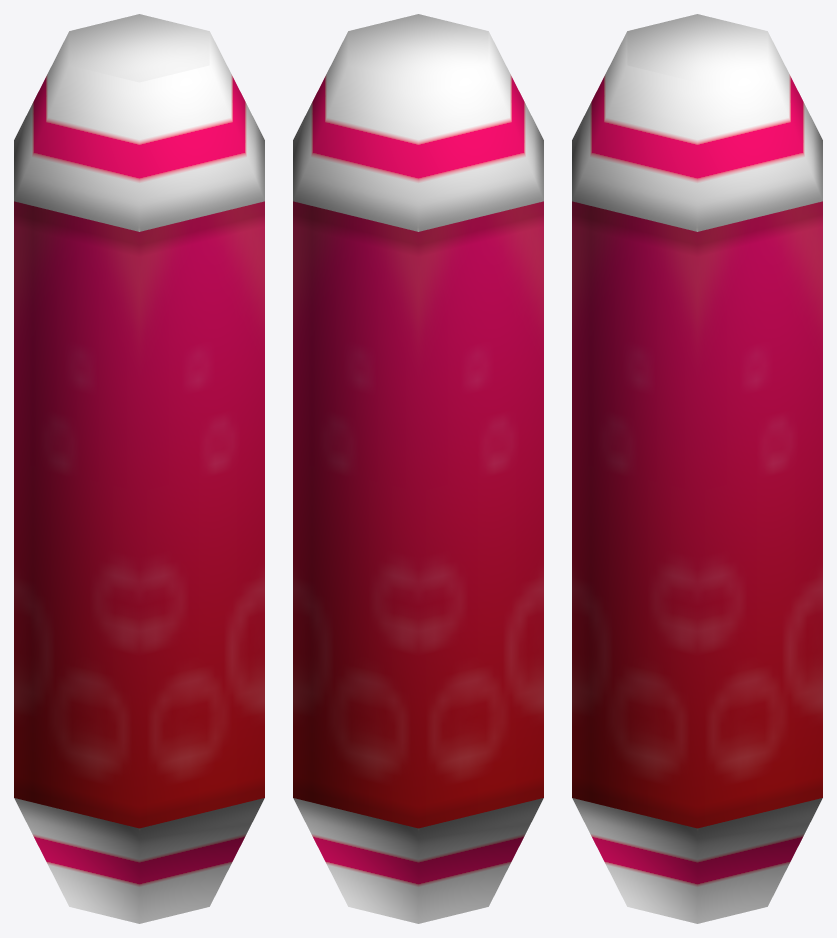
The model's file is potion_a1.FBX.
The picture shows the model from 3 angles, left to right: view 1: azimuth 30°, elevation 25°; view 2: azimuth 150°, elevation 25°; view 3: azimuth 270°, elevation 25°; orthographic projection.
Visible parts, largest first — view 1: potion_a1; view 2: potion_a1; view 3: potion_a1.
Boxes of the visible parts, x1,y1,x2,y2 form: potion_a1: [14, 14, 264, 923]; potion_a1: [293, 14, 543, 923]; potion_a1: [572, 14, 822, 923].
Bounding box in the file's own units: 22.62 × 72.49 × 19.59.
